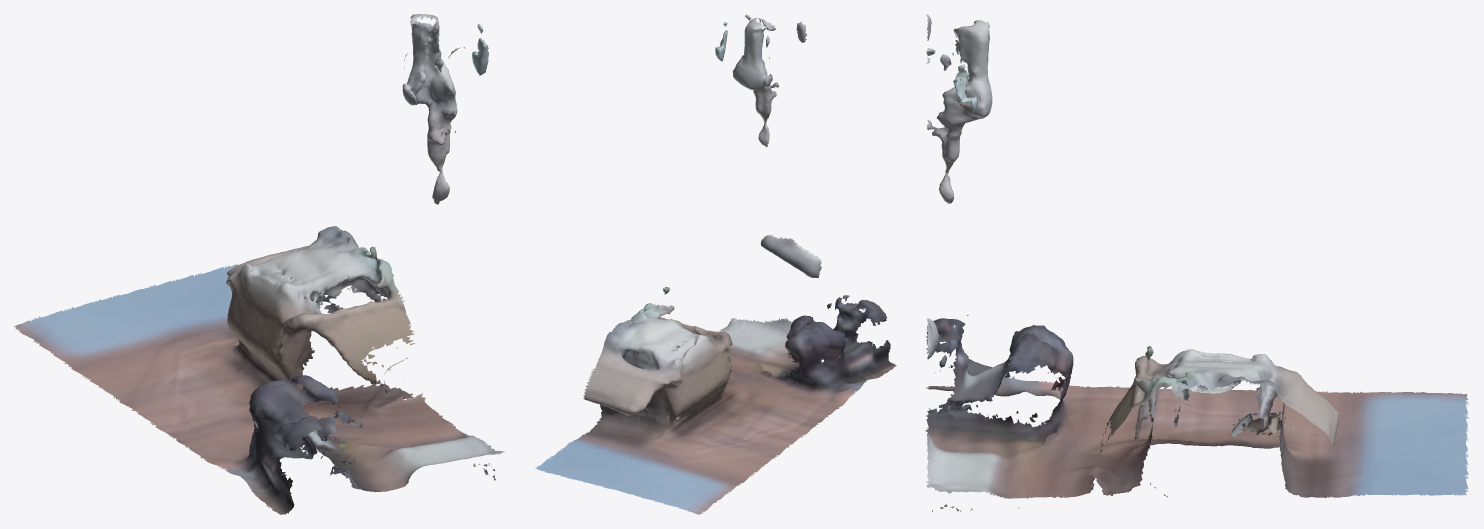
File: apartment-full-38-a64db7fa3b33.glb
The picture shows the model from 3 angles, left to right: view 1: azimuth 30°, elevation 25°; view 2: azimuth 150°, elevation 25°; view 3: azimuth 270°, elevation 25°; orthographic projection. The views are drawn at different scales.
Bounding box in the file's own units: 0.67 × 1.3 × 1.38.
